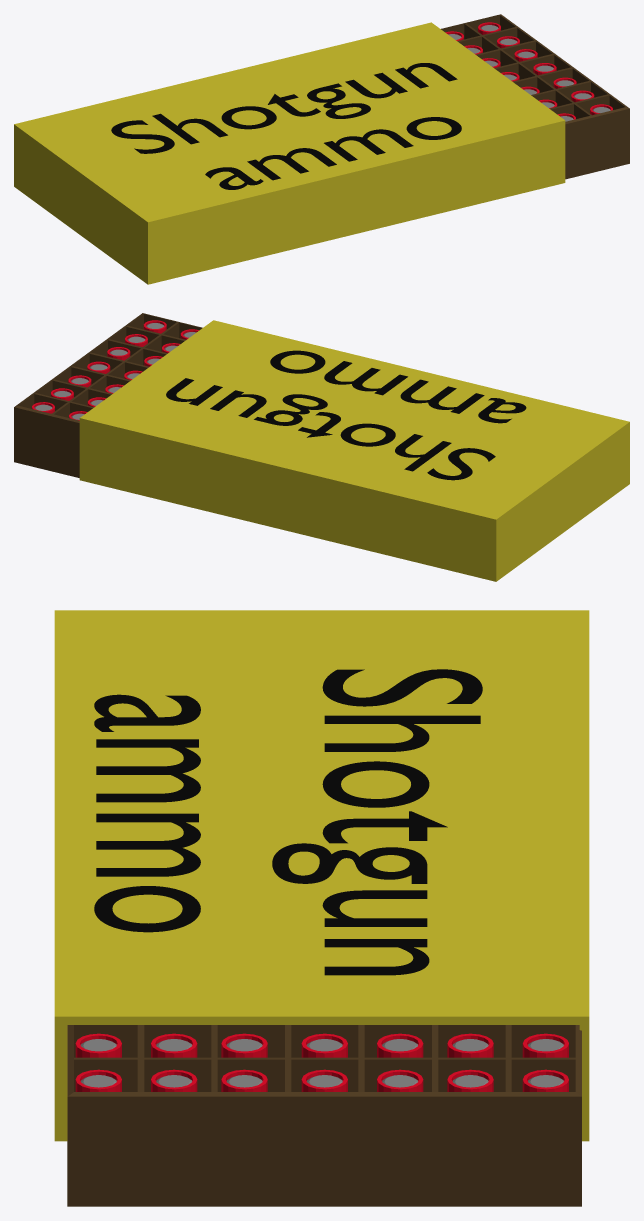
The model's file is shotgunAmmo.fbx.
The picture shows the model from 3 angles, top to bottom: view 1: azimuth 30°, elevation 25°; view 2: azimuth 150°, elevation 25°; view 3: azimuth 270°, elevation 25°; orthographic projection. The views are drawn at different scales.
Visible parts, largest first — view 1: Plane, Circle.024, Text; view 2: Plane, Circle.024, Text; view 3: Plane, Circle.024, Text.
Boxes of the visible parts, left/top/right/bottom form: Plane: left=14, top=22, right=565, bottom=284; Circle.024: left=441, top=14, right=629, bottom=179; Text: left=111, top=63, right=461, bottom=189; Plane: left=79, top=320, right=629, bottom=581; Circle.024: left=14, top=313, right=202, bottom=477; Text: left=166, top=350, right=526, bottom=480; Plane: left=54, top=610, right=589, bottom=1141; Circle.024: left=67, top=1025, right=581, bottom=1206; Text: left=94, top=669, right=482, bottom=975.
Bounding box in the file's own units: 75 × 9.41 × 35.88.
